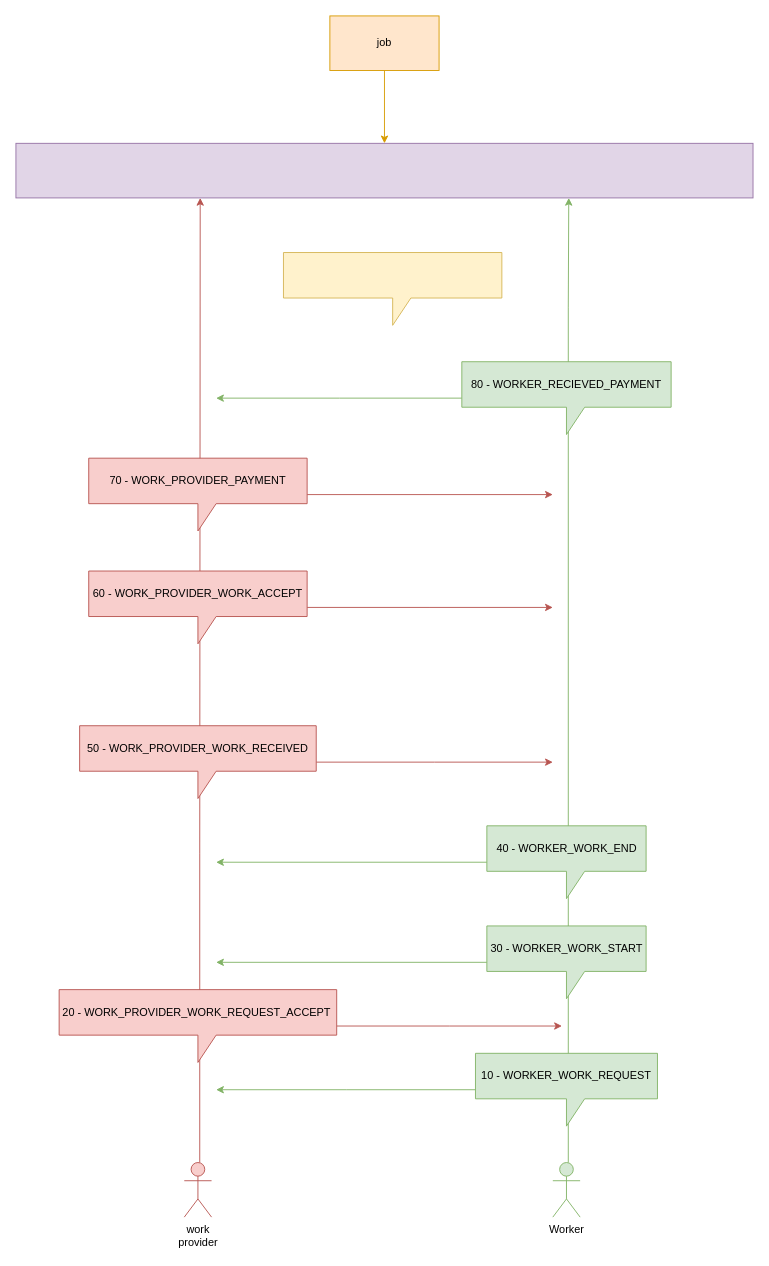
Some shapes in this 769 by 1266 pixel diagram are drawn without their labels. The centre of each missing label's shape, as x and y in pixels:
90 - PROCESS_COMPLETE: the point at 392,288
JobInstance: the point at 384,170
